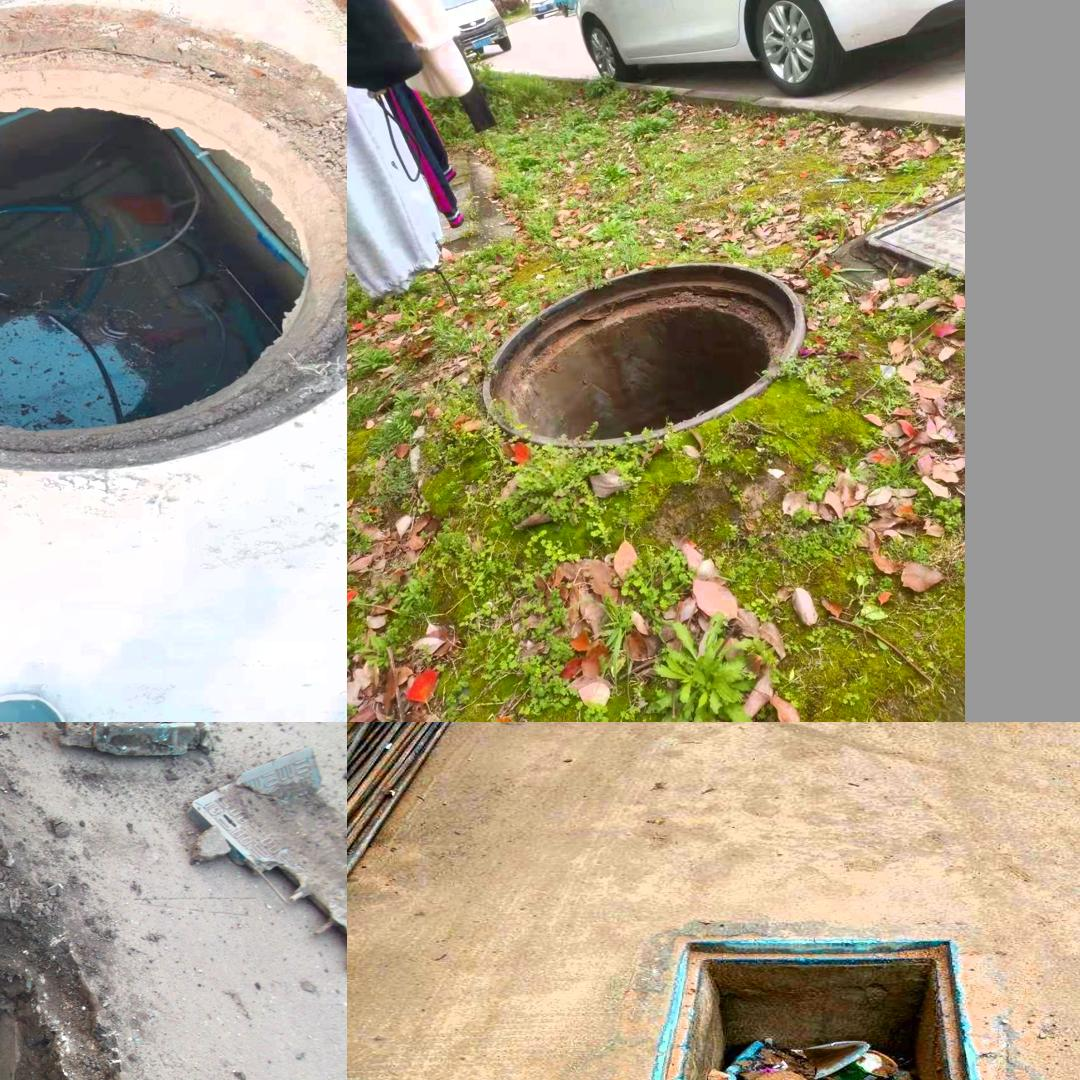lose: (0, 0, 338, 477), (480, 260, 803, 450), (623, 938, 1002, 1080), (0, 965, 39, 1080)
